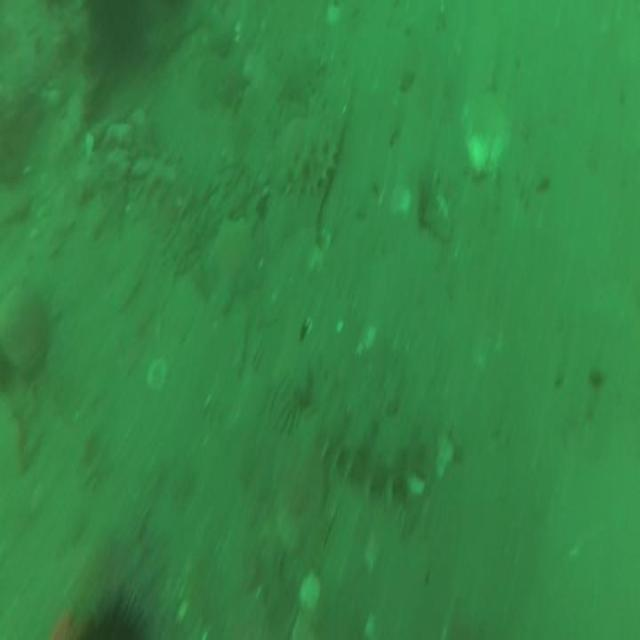holothurian: (319, 403, 419, 498), (272, 142, 334, 191)
scallop: (462, 93, 510, 171)
starfish: (195, 221, 262, 310)
